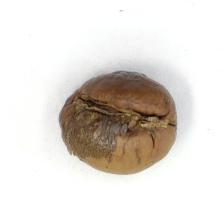NG: (60, 90, 153, 166)
